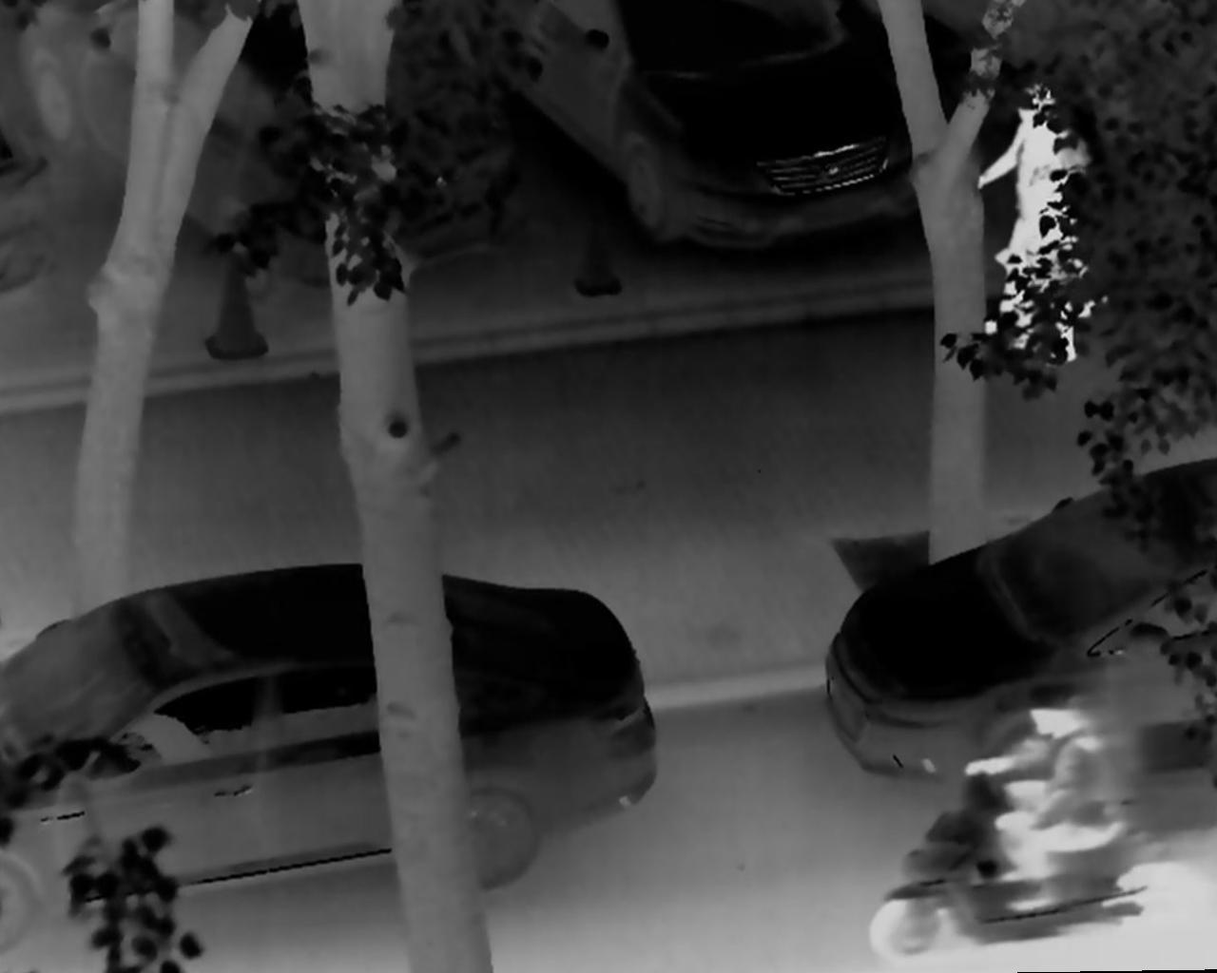person: (966, 676, 1132, 921), (977, 80, 1107, 336), (995, 93, 1106, 371)
